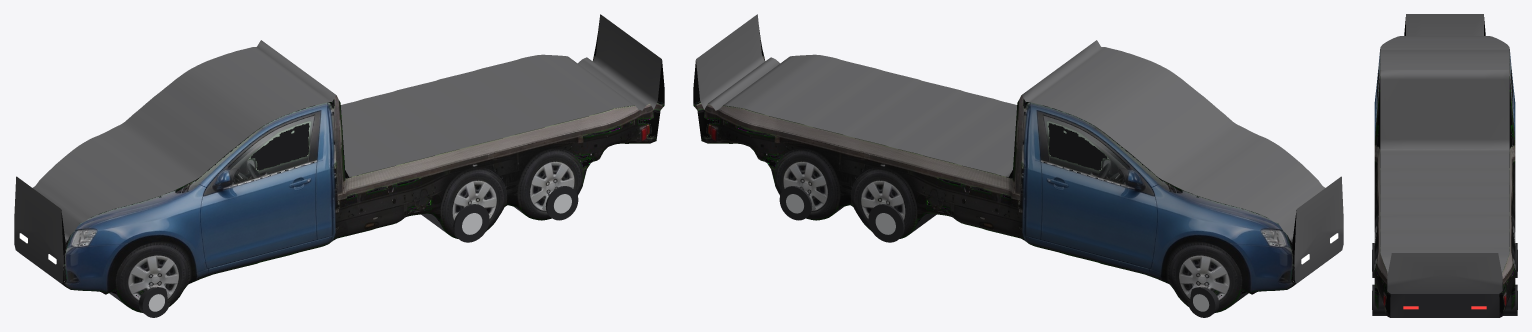
Rendered from flatbed.glb.
The picture shows the model from 3 angles, left to right: view 1: azimuth 30°, elevation 25°; view 2: azimuth 150°, elevation 25°; view 3: azimuth 270°, elevation 25°; orthographic projection. The views are drawn at different scales.
Visible parts, largest first — view 1: flatbed; view 2: flatbed; view 3: flatbed.
Part boxes in pixels (box(x1,y1,x2,y2)): flatbed: box(14, 14, 664, 317); flatbed: box(693, 14, 1343, 317); flatbed: box(1372, 14, 1517, 317).
Size of the model in its own units: 7.13 by 2.01 by 1.76.
8 materials, 2 textured.
